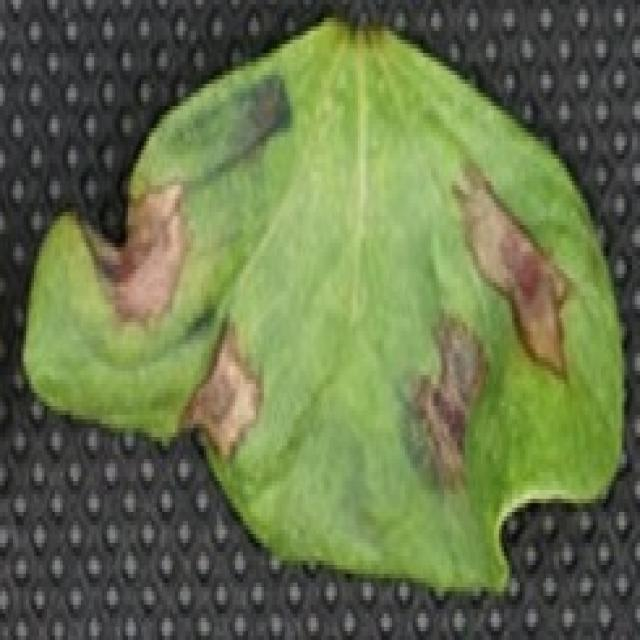Fusarium Wilt: (392, 181, 579, 492)
